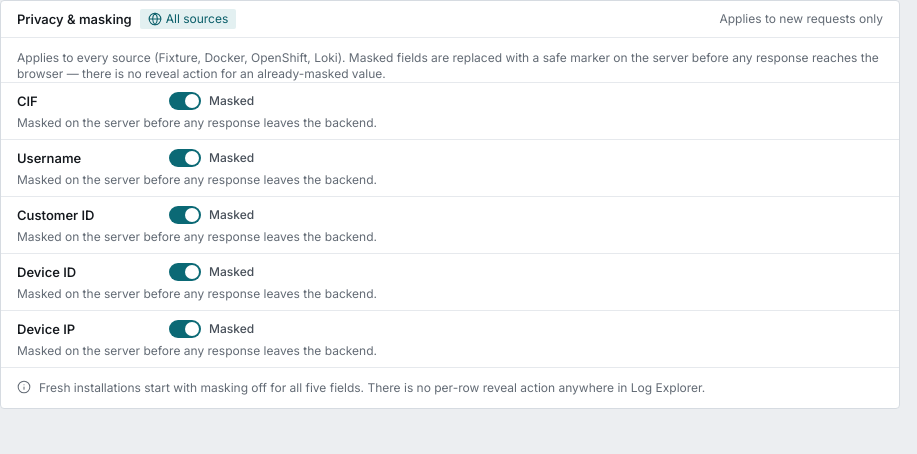
PrivacyMaskingSettingsPanel › shows a sanitized error if an update fails, without losing the previously-loaded state
Click the switch labelled "Masked" next to "CIF". click: {"x": 217, "y": 101}
box: left=169, top=92, right=265, bottom=110
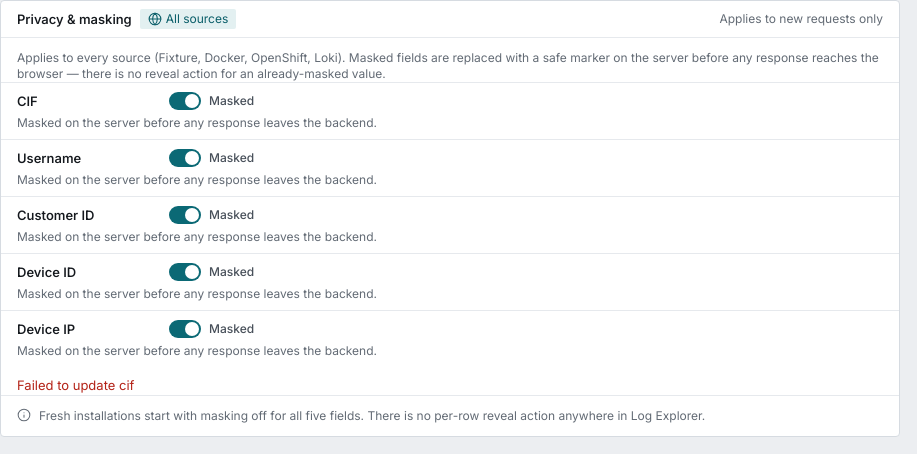
Now the message reads "Failed to update cif", box left=17, top=377, right=134, bottom=393
